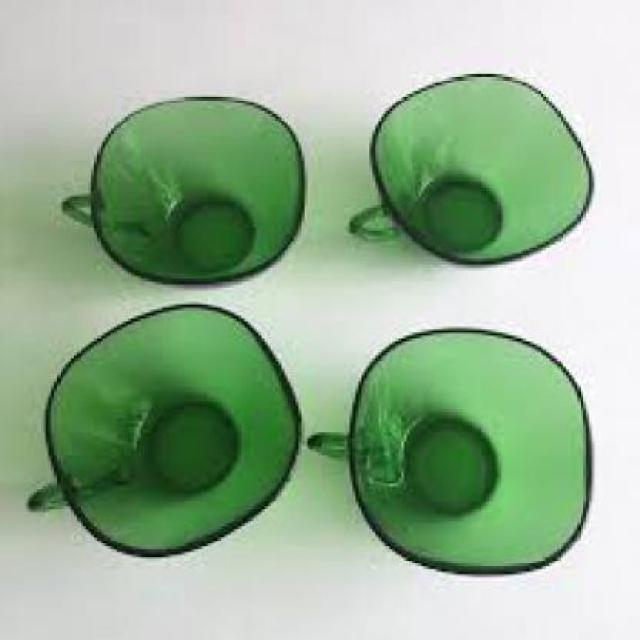GLASS: (28, 302, 302, 560), (310, 327, 595, 571), (60, 93, 308, 284), (352, 73, 600, 264)
